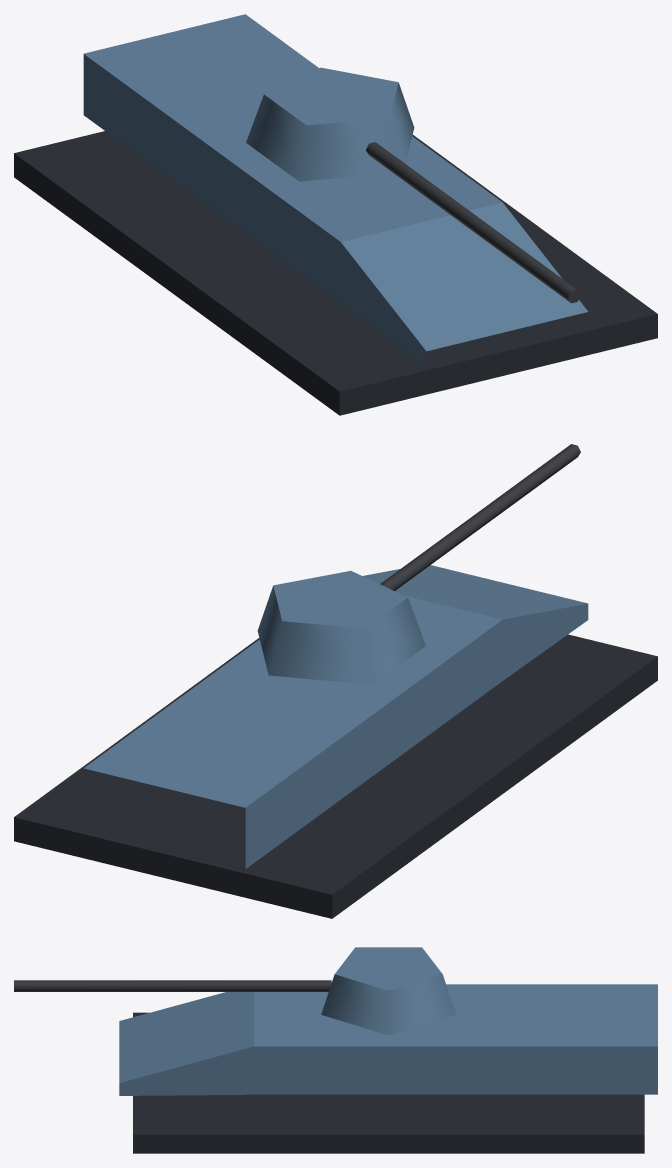
File: veh_ground_tank_light_a10_lod1.glb
The picture shows the model from 3 angles, top to bottom: view 1: azimuth 30°, elevation 25°; view 2: azimuth 150°, elevation 25°; view 3: azimuth 270°, elevation 25°; orthographic projection. The views are drawn at different scales.
Visible parts, largest first — view 1: body, turret; view 2: body, turret; view 3: body, turret.
Part boxes in pixels (bbox=[...]): body: bbox=[14, 14, 657, 415]; turret: bbox=[246, 67, 580, 303]; body: bbox=[14, 565, 657, 918]; turret: bbox=[257, 444, 580, 684]; body: bbox=[119, 984, 657, 1153]; turret: bbox=[14, 947, 455, 1035].
Size of the model in its own units: 3.45 by 1.71 by 7.7.
